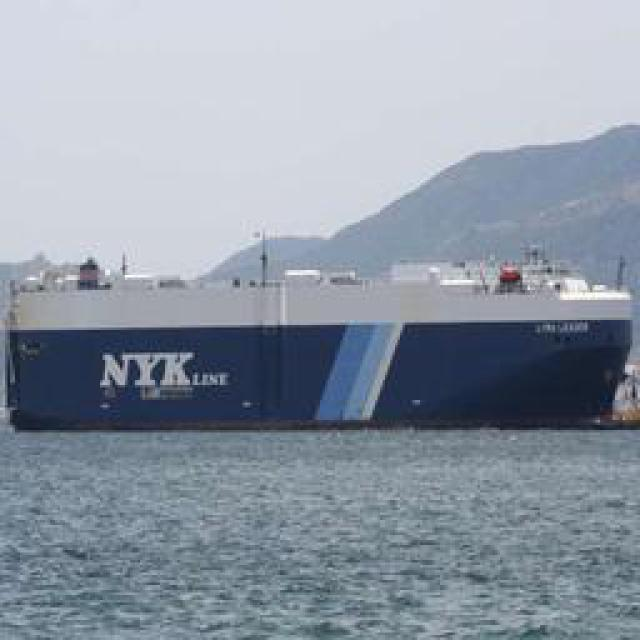Ship: (18, 243, 633, 421)
